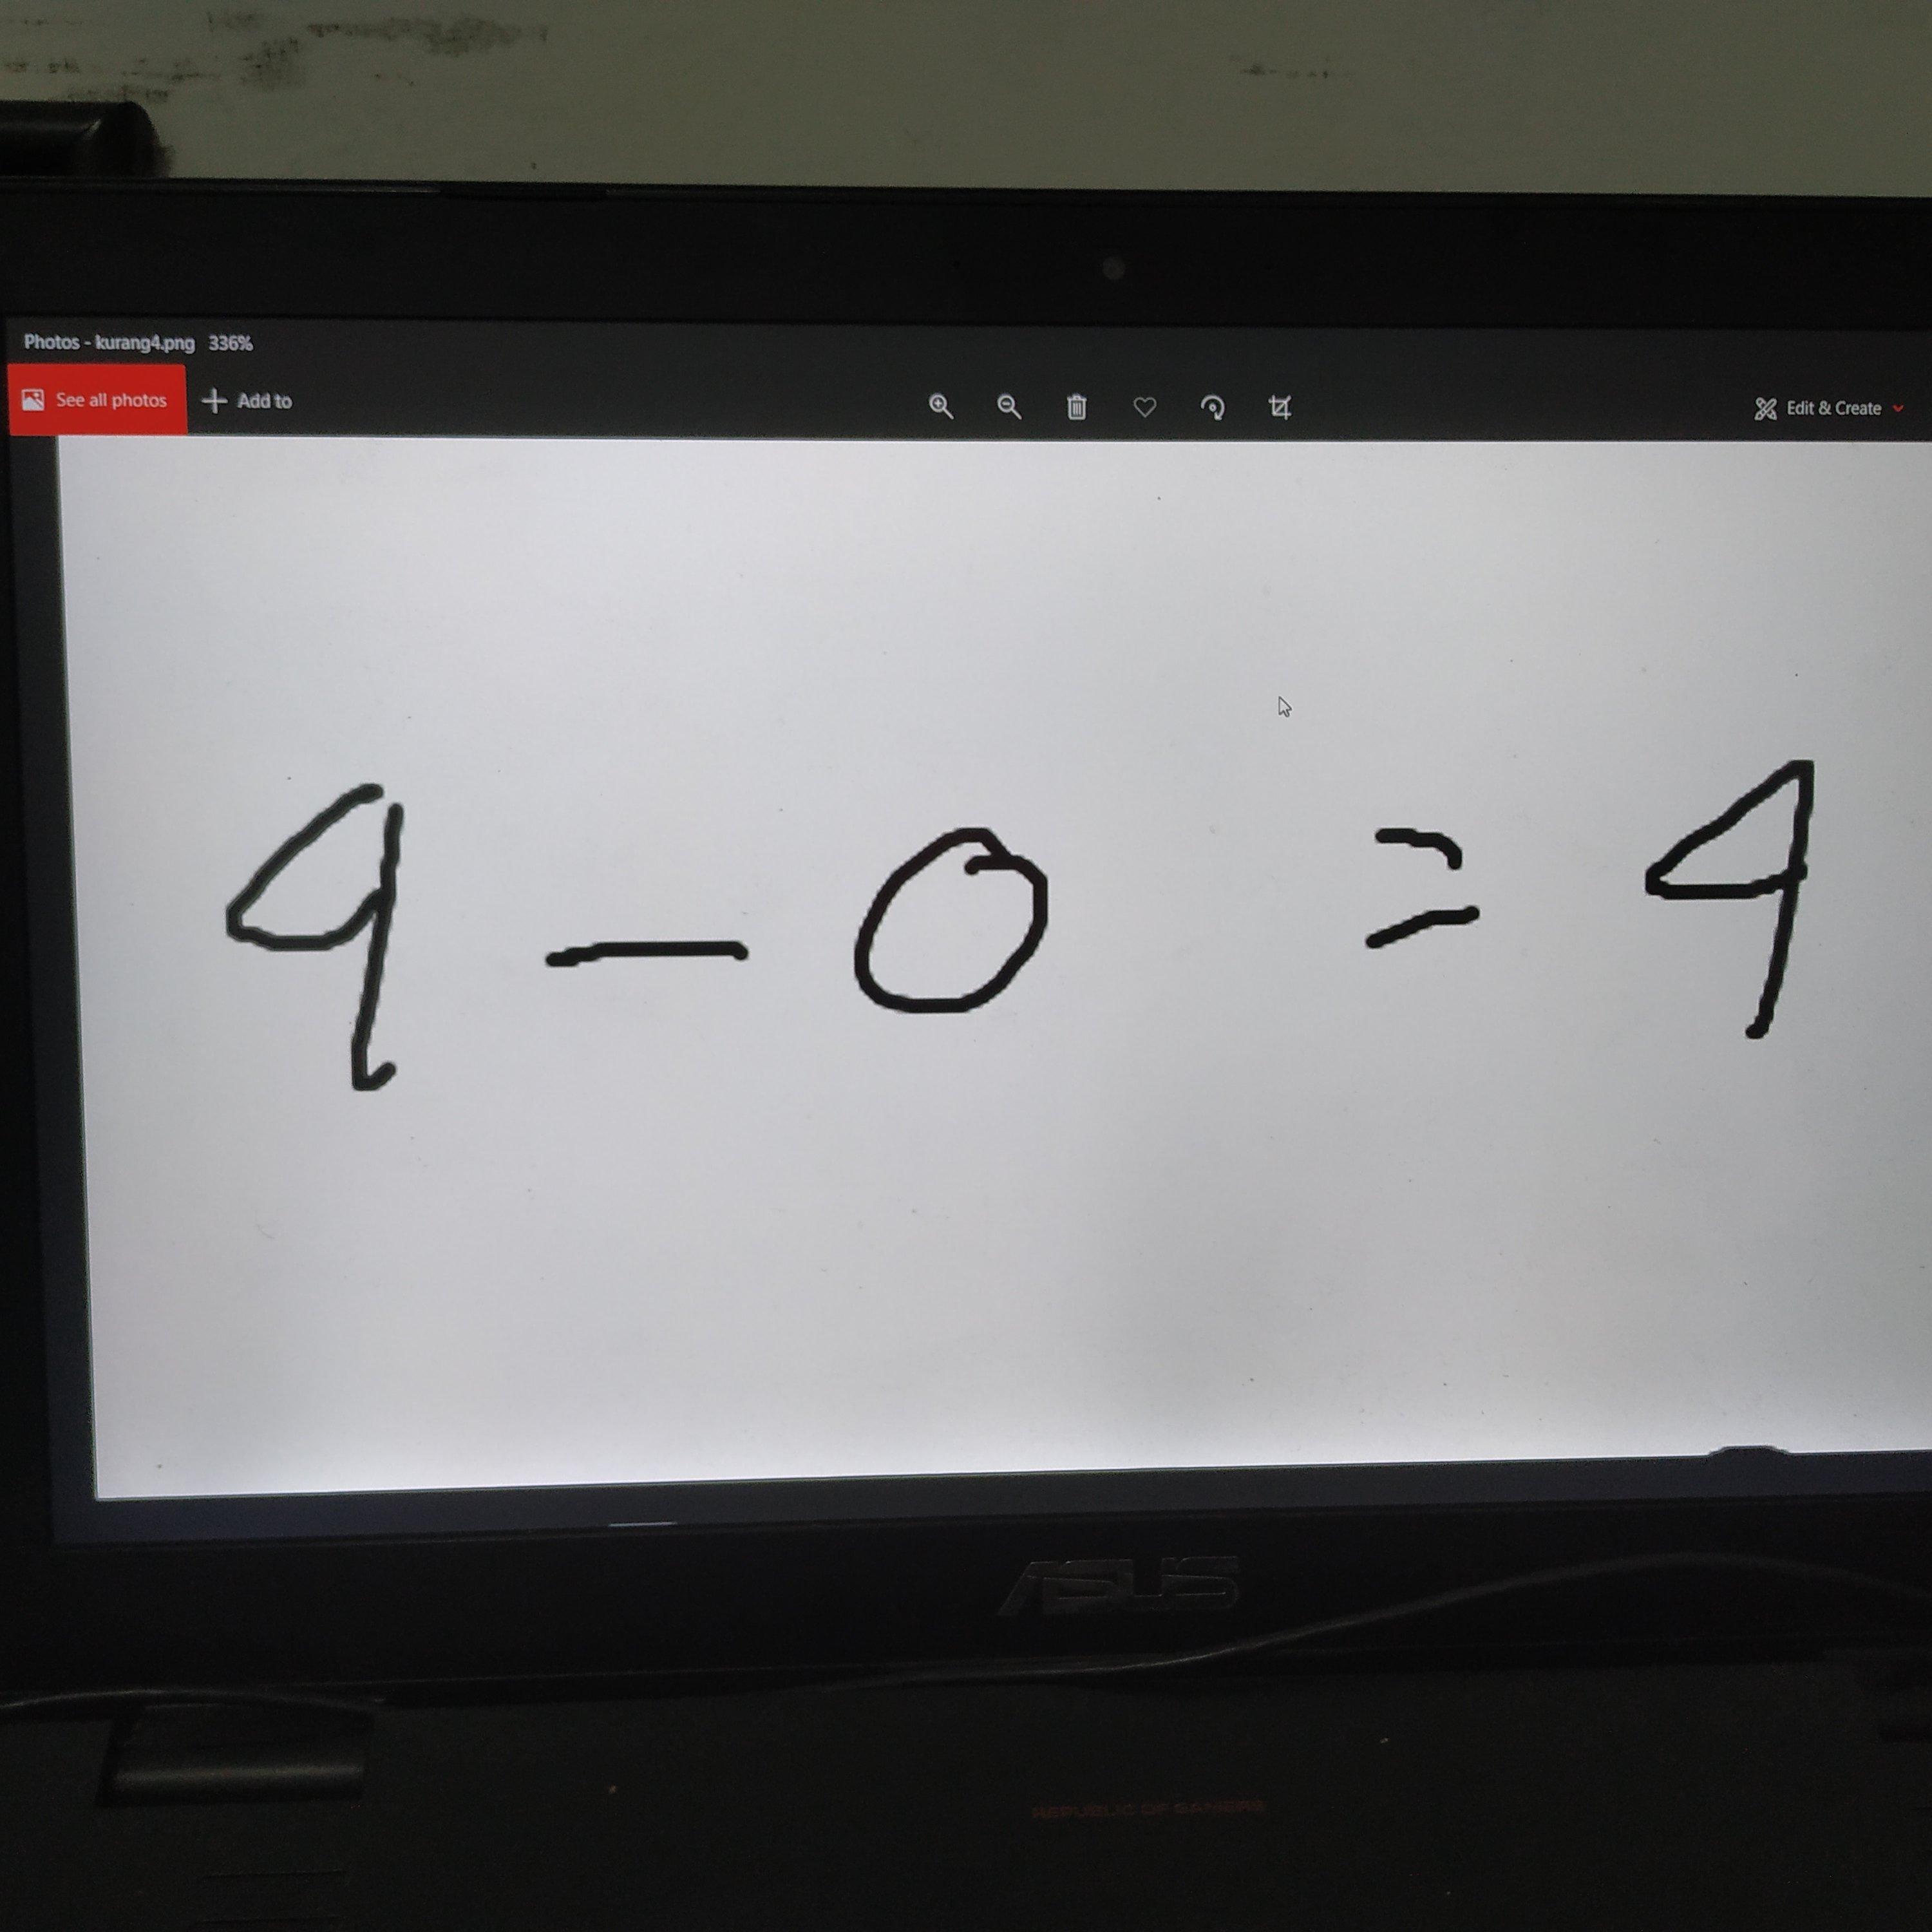equal: (1343, 804, 1523, 961)
min: (506, 918, 788, 982)
num0: (835, 812, 1074, 1028)
num4: (204, 766, 447, 1119), (1615, 744, 1847, 1055)
